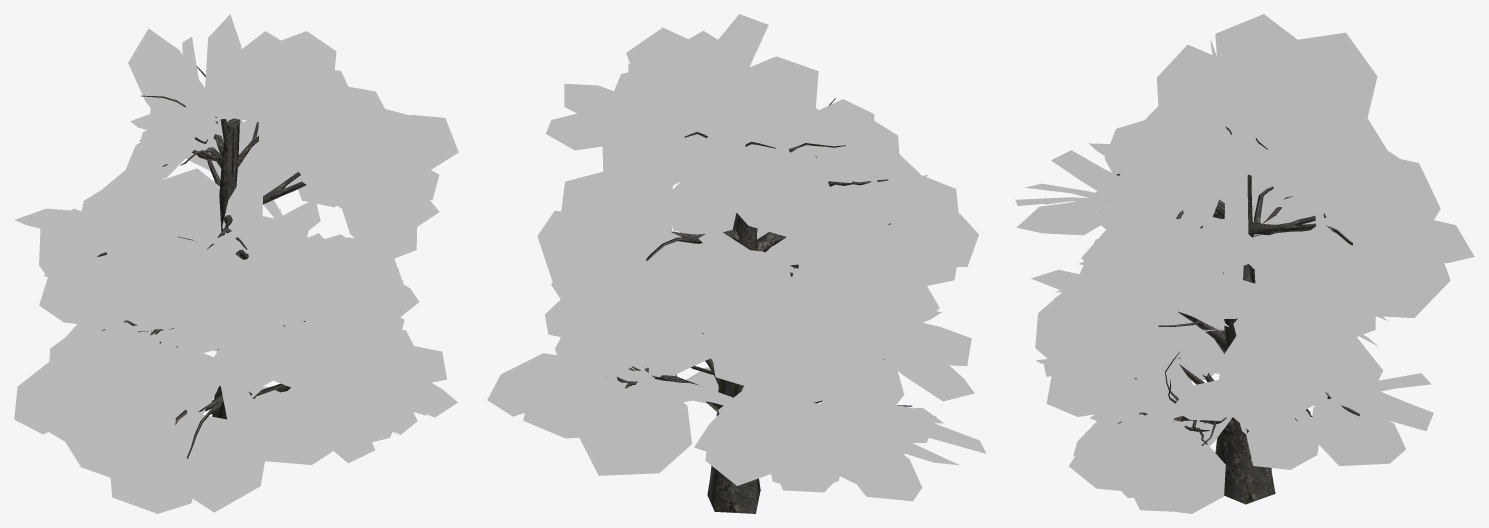
File: tree_beech_low_1.DAE
The picture shows the model from 3 angles, left to right: view 1: azimuth 30°, elevation 25°; view 2: azimuth 150°, elevation 25°; view 3: azimuth 270°, elevation 25°; orthographic projection. The views are drawn at different scales.
Parts seen in each view (by area): view 1: Object529, beech_modelling; view 2: Object529, beech_modelling; view 3: Object529, beech_modelling.
Part boxes in pixels (left/top/right/bottom): Object529: left=14, top=14, right=458, bottom=513; beech_modelling: left=97, top=66, right=306, bottom=458; Object529: left=487, top=14, right=986, bottom=501; beech_modelling: left=606, top=98, right=912, bottom=513; Object529: left=1015, top=14, right=1474, bottom=513; beech_modelling: left=1101, top=126, right=1359, bottom=504.
Size of the model in its own units: 18.85 by 20.08 by 18.44.
